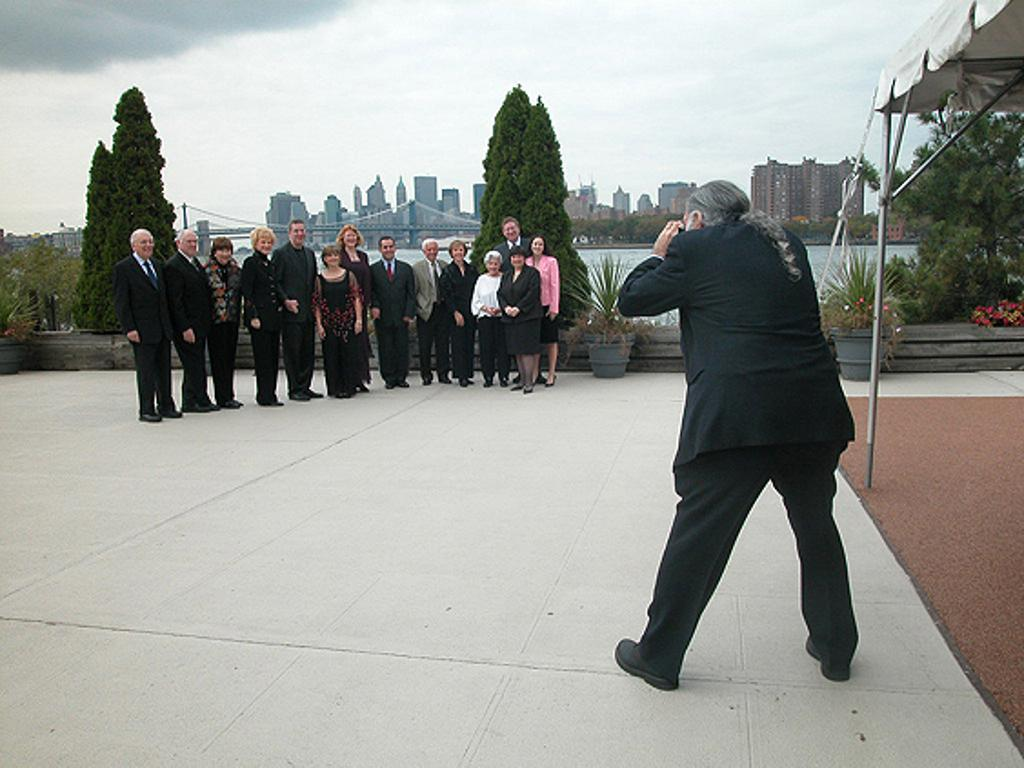face: (134, 234, 154, 256), (179, 232, 196, 255), (289, 224, 305, 246), (257, 234, 273, 254), (216, 244, 231, 264), (381, 240, 394, 259), (504, 224, 519, 240), (326, 249, 340, 266), (531, 237, 543, 256), (425, 244, 437, 261), (509, 252, 523, 266), (487, 258, 500, 273), (345, 230, 357, 246), (451, 244, 463, 260)
